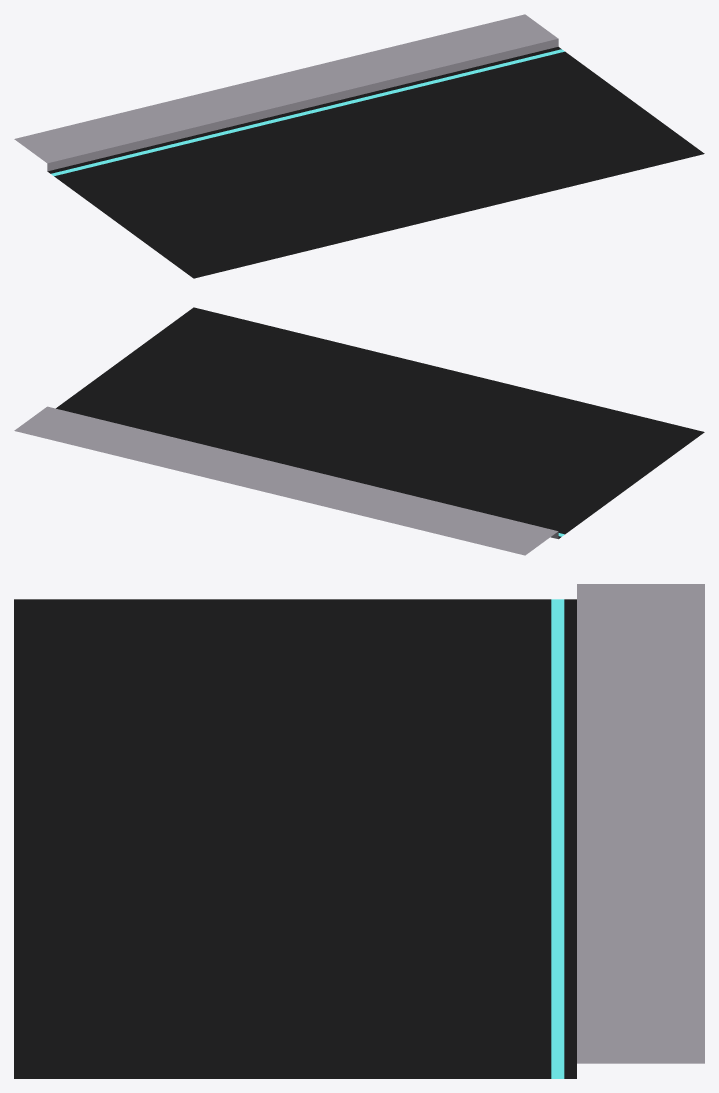
The model's file is 4-vias-cobertura.fbx.
The picture shows the model from 3 angles, top to bottom: view 1: azimuth 30°, elevation 25°; view 2: azimuth 150°, elevation 25°; view 3: azimuth 270°, elevation 25°; orthographic projection. The views are drawn at different scales.
Visible parts, largest first — view 1: Model; view 2: Model; view 3: Model.
Boxes of the visible parts, x1=… form: Model: x1=14, y1=14, x2=704, y2=278; Model: x1=14, y1=307, x2=704, y2=555; Model: x1=14, y1=584, x2=704, y2=1078.
Bounding box in the file's own units: 13.3 × 0.2 × 8.1.
